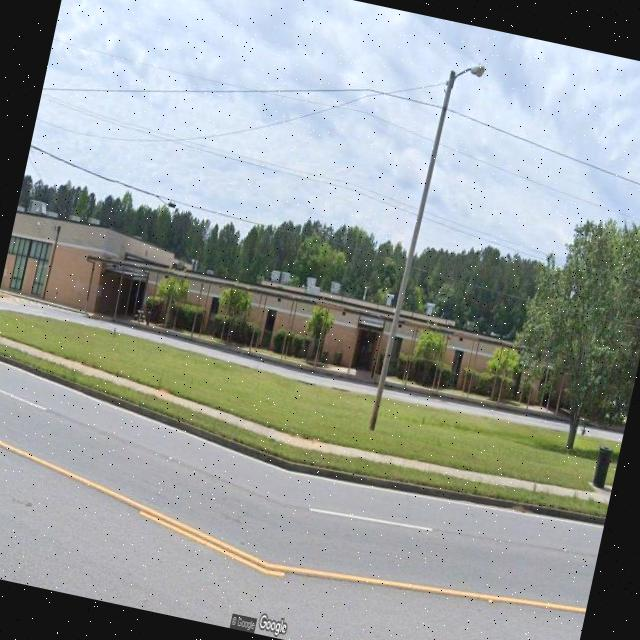trash_can: (590, 444, 614, 490)
